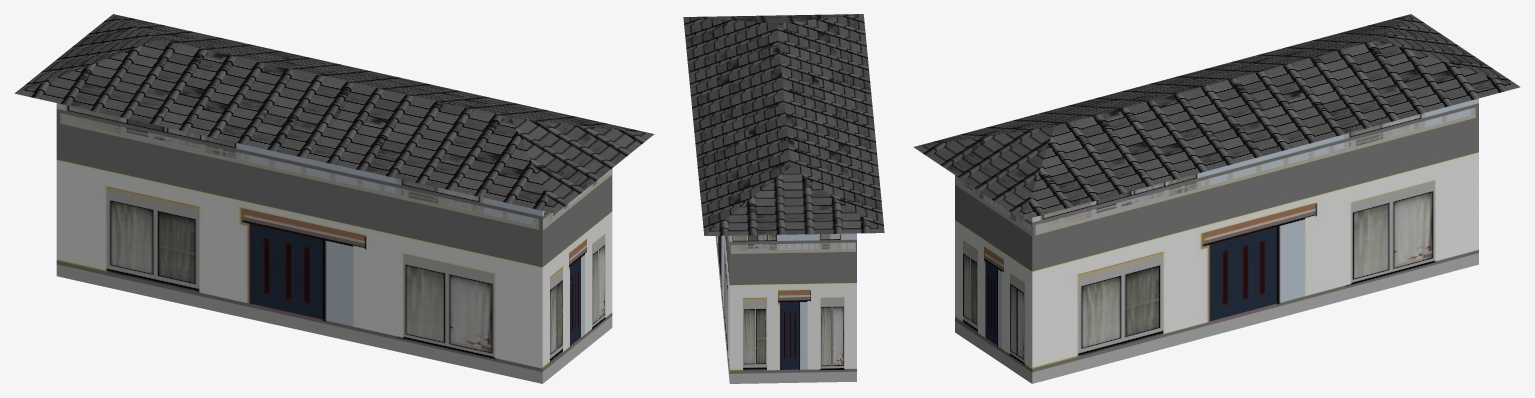
3 renders of one model, left to right at view 1: azimuth 30°, elevation 25°; view 2: azimuth 150°, elevation 25°; view 3: azimuth 270°, elevation 25°, orthographic. The views are drawn at different scales.
Parts seen in each view (by area): view 1: CityEngineMaterial_7_m, CityEngineMaterial_8_m; view 2: CityEngineMaterial_8_m, CityEngineMaterial_7_m; view 3: CityEngineMaterial_7_m, CityEngineMaterial_8_m.
Boxes of the visible parts, bbox=[...] form: CityEngineMaterial_7_m: bbox=[56, 103, 612, 383]; CityEngineMaterial_8_m: bbox=[15, 14, 654, 213]; CityEngineMaterial_8_m: bbox=[683, 14, 884, 235]; CityEngineMaterial_7_m: bbox=[715, 233, 856, 383]; CityEngineMaterial_7_m: bbox=[955, 98, 1478, 383]; CityEngineMaterial_8_m: bbox=[913, 14, 1520, 219].
Size of the model in its own units: 15.19 by 7.38 by 18.9.
